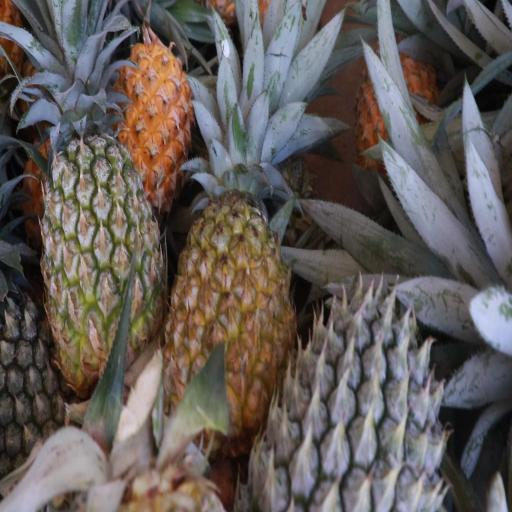------------------------------: (29, 121, 158, 380)
Pineapple - v8 v1: (155, 154, 292, 433), (68, 30, 186, 168), (358, 50, 433, 161)
